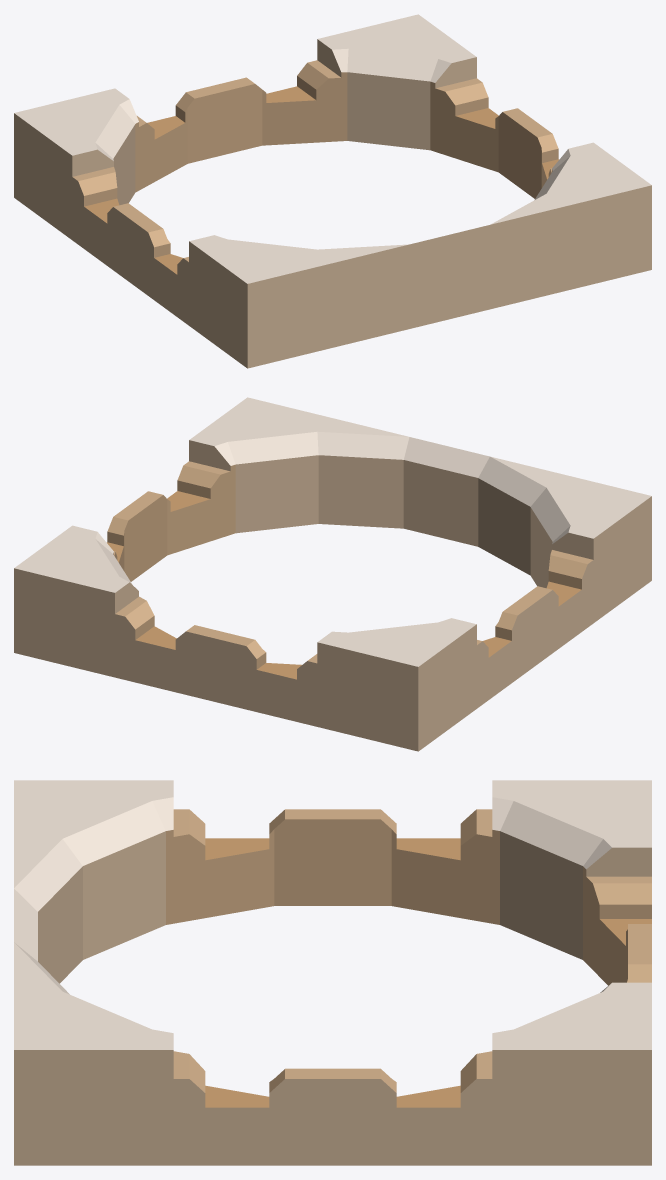
Rendered from Puzzle_Track_Rotating_Housing_TJoint.obj.
3 renders of one model, top to bottom at view 1: azimuth 30°, elevation 25°; view 2: azimuth 150°, elevation 25°; view 3: azimuth 270°, elevation 25°, orthographic. The views are drawn at different scales.
Visible parts, largest first — view 1: object1; view 2: object1; view 3: object1.
Boxes of the visible parts, bbox=[...] form: object1: bbox=[14, 14, 651, 368]; object1: bbox=[14, 397, 651, 751]; object1: bbox=[14, 780, 651, 1165].
Bounding box in the file's own units: 1 × 0.2 × 1.
